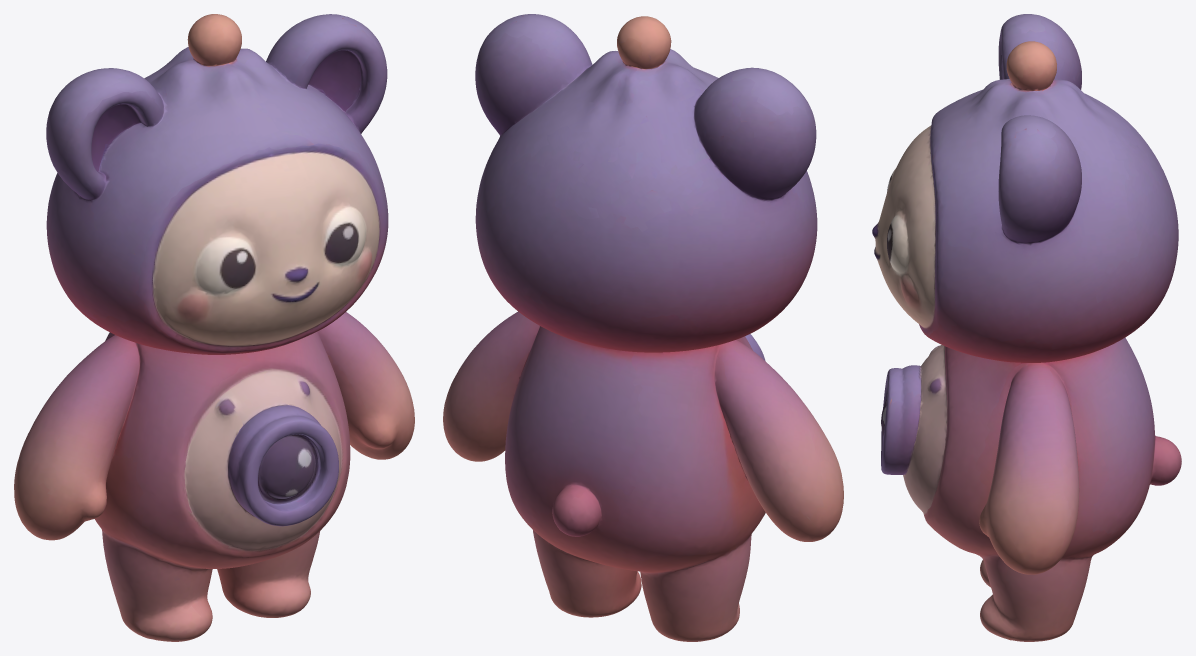
The model's file is lumi.glb.
3 views of the same model, side by side, from view 1: azimuth 30°, elevation 25°; view 2: azimuth 150°, elevation 25°; view 3: azimuth 270°, elevation 25° (orthographic). The views are drawn at different scales.
Visible parts, largest first — view 1: geometry_0; view 2: geometry_0; view 3: geometry_0.
Part boxes in pixels (x1,y1,x2,y2): geometry_0: (14, 14, 414, 641); geometry_0: (443, 14, 843, 641); geometry_0: (872, 14, 1181, 641).
Bounding box in the file's own units: 0.6798 × 1 × 0.4995.
Materials: 1 (1 with a texture image).
